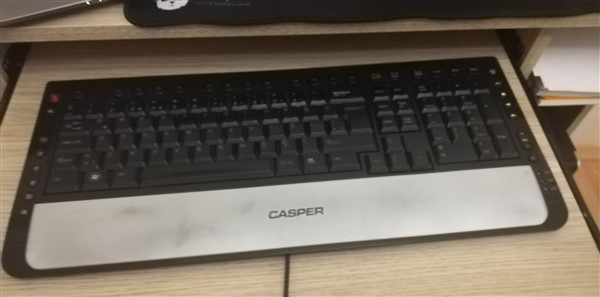klavye: (4, 76, 565, 242)
